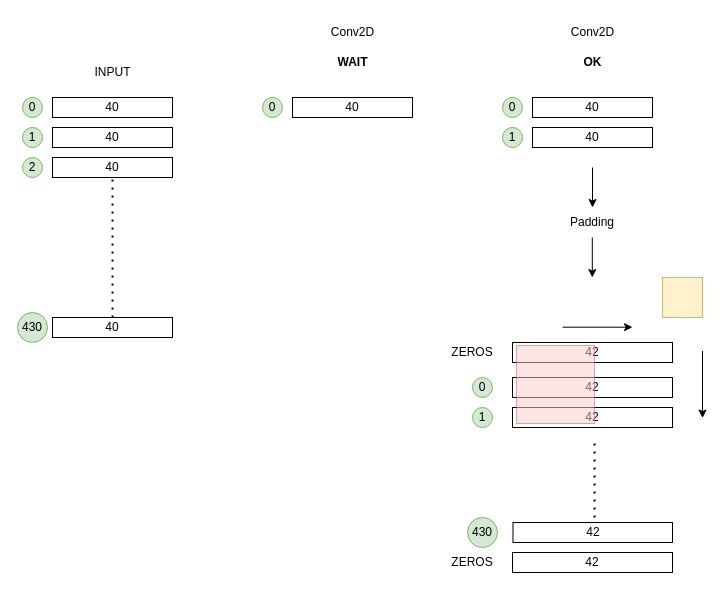
The diagram is 728 pixels wide and 594 high, and some of its shapes have lost their labels. The centre of each missing label's shape, as x and y in pixels:
"Bias 1" goes at [682,297].
"Kernel 3x3" goes at [555,384].
